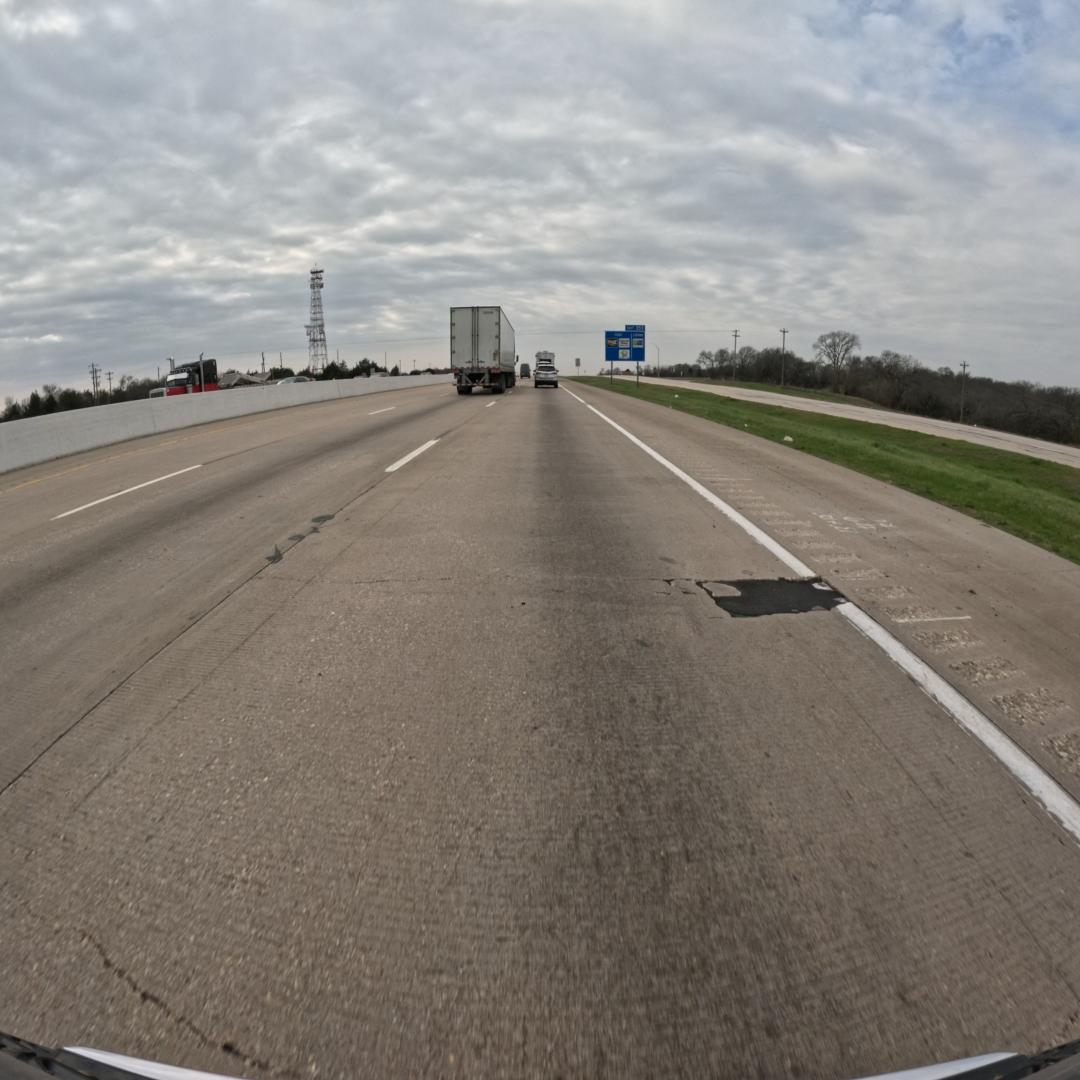lane0: (1, 384, 1080, 1080)
lane1: (0, 392, 508, 794)
